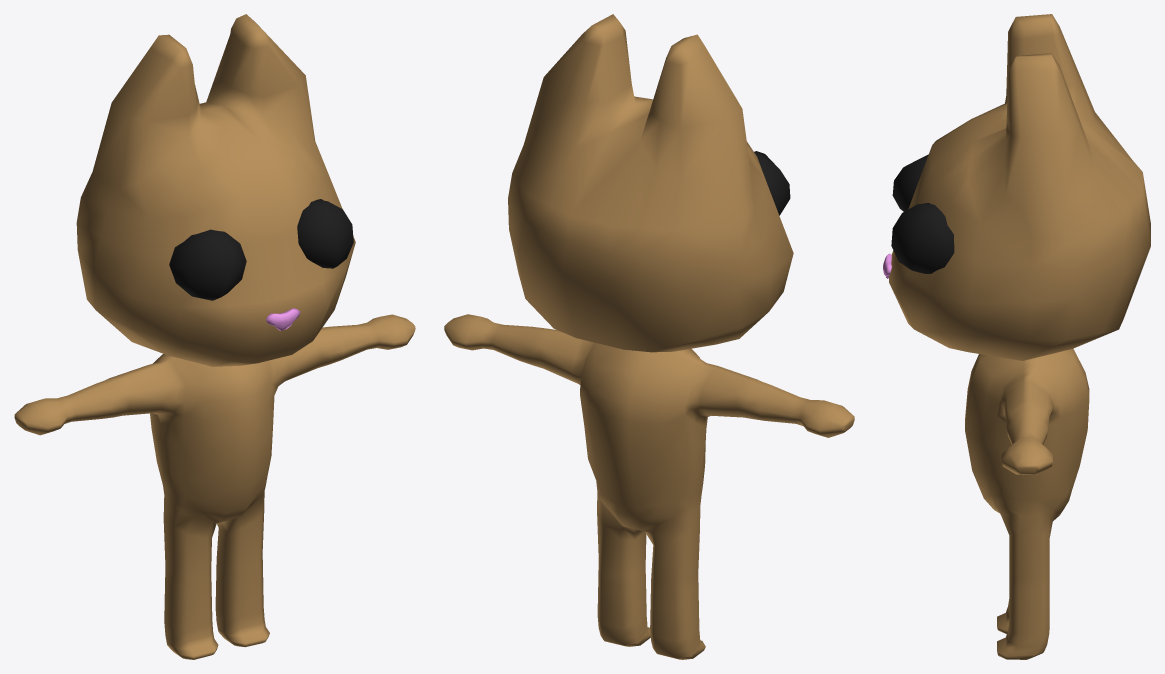
The model's file is Cat.fbx.
The picture shows the model from 3 angles, left to right: view 1: azimuth 30°, elevation 25°; view 2: azimuth 150°, elevation 25°; view 3: azimuth 270°, elevation 25°; orthographic projection. The views are drawn at different scales.
Parts seen in each view (by area): view 1: Him; view 2: Him; view 3: Him.
Part boxes in pixels (x1,y1,x2,y2): Him: (14, 14, 415, 659); Him: (444, 14, 854, 659); Him: (883, 14, 1150, 659).
Size of the model in its own units: 4.75 by 7.04 by 2.82.
